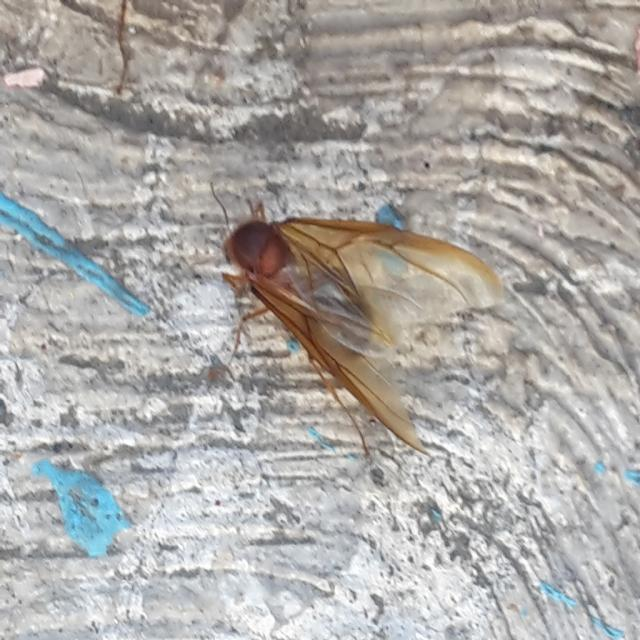Alive-Male-Alate: (178, 180, 506, 459)
